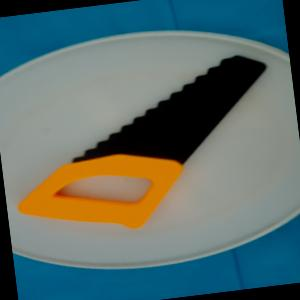serrote: (0, 50, 284, 243)
